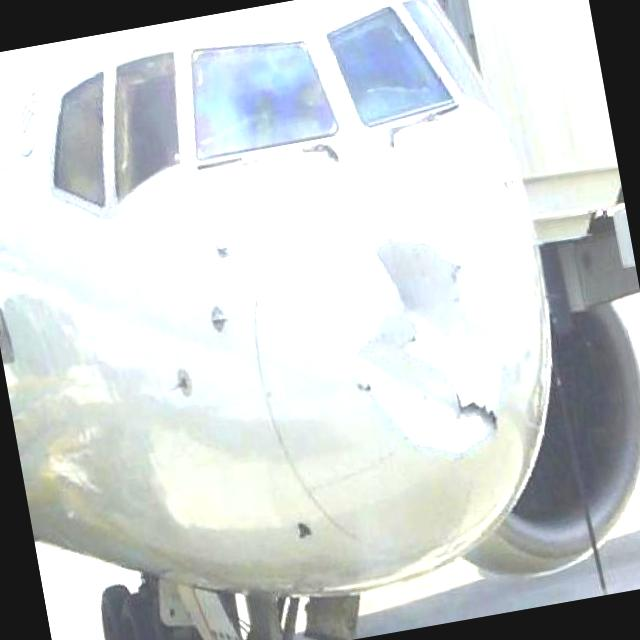dent: (333, 220, 518, 475)
